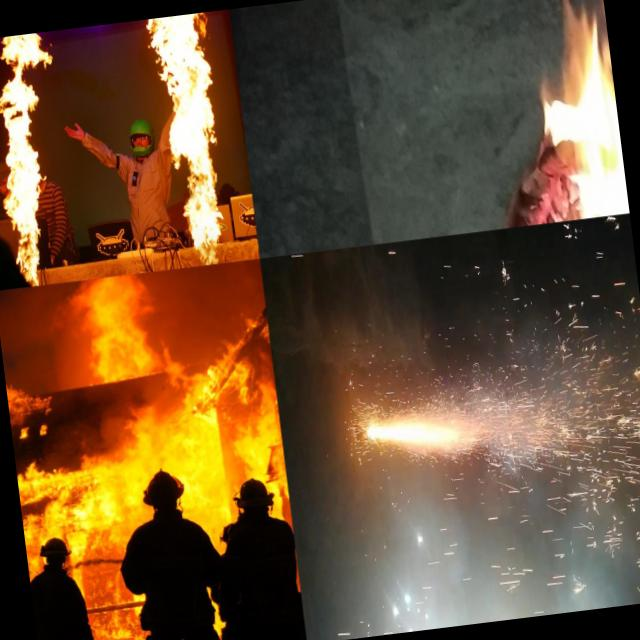fire: (0, 258, 288, 534), (487, 0, 629, 226), (147, 11, 243, 264), (0, 31, 80, 288), (570, 566, 625, 611)
